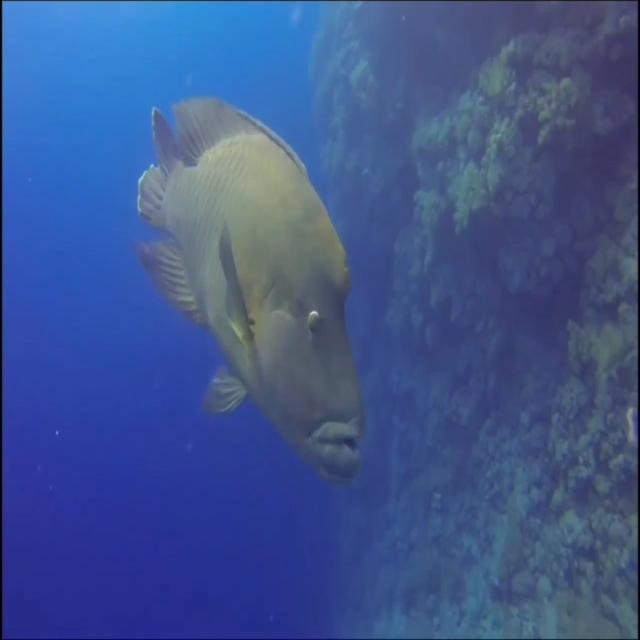Napoleon -Endangered-: (137, 96, 370, 480)
